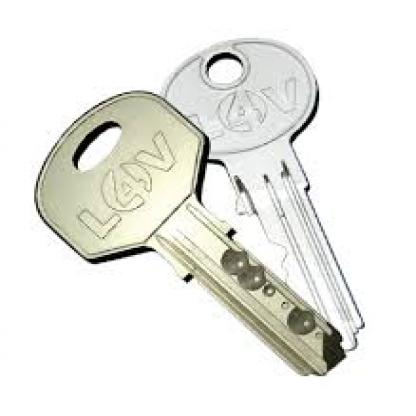key: (40, 93, 325, 385), (168, 37, 385, 344)
